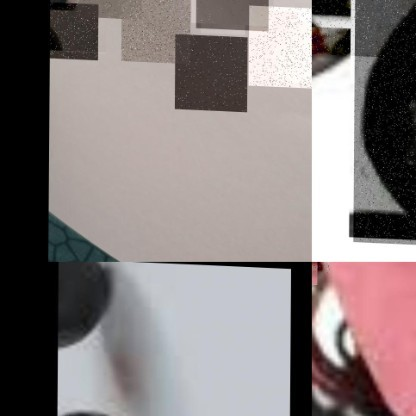ironball: (353, 0, 415, 251), (311, 0, 415, 56), (174, 31, 247, 109), (59, 259, 113, 356), (248, 2, 311, 85), (121, 0, 190, 61), (49, 1, 98, 58), (195, 0, 268, 27), (77, 0, 142, 17)
